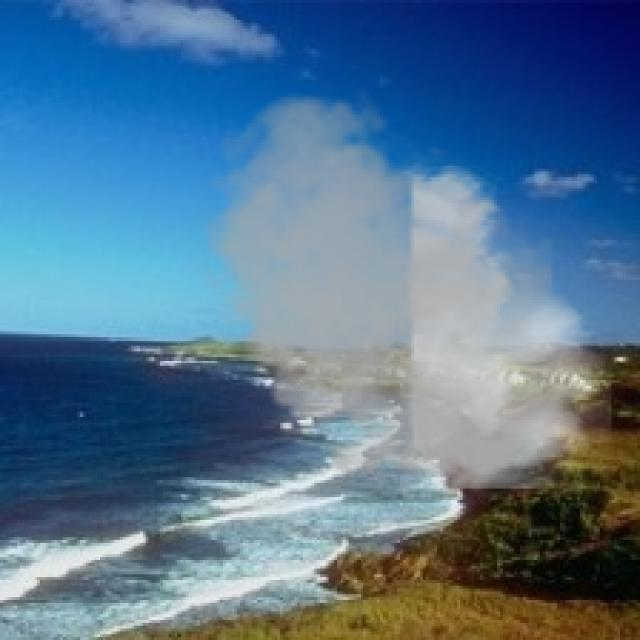Smoke: (188, 86, 612, 506)
